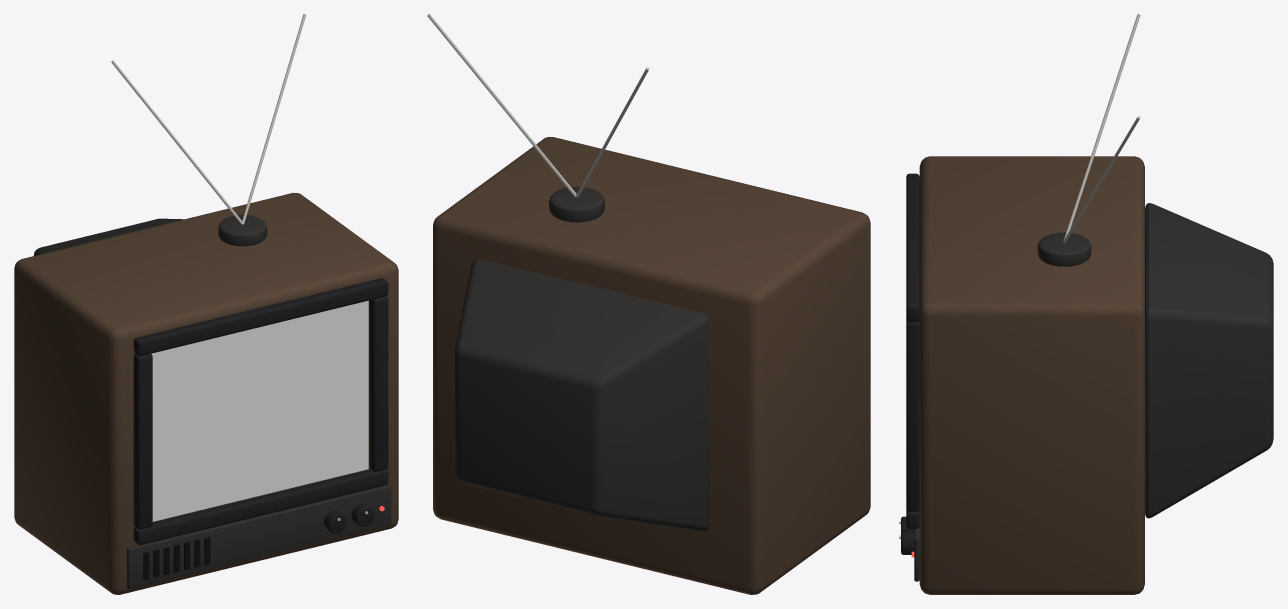
The picture shows the model from 3 angles, left to right: view 1: azimuth 30°, elevation 25°; view 2: azimuth 150°, elevation 25°; view 3: azimuth 270°, elevation 25°; orthographic projection. The views are drawn at different scales.
Parts seen in each view (by area): view 1: TvBody, Screen, TvPanel, TvFrameTop, TvFrameBottom, TvFrameLeft, TvFrameRight, TvAntennaBase, TvBack, TvAntennaRod1, TvAntennaRod0; view 2: TvBody, TvBack, TvAntennaBase, TvAntennaRod1; view 3: TvBody, TvBack, TvFrameRight, TvFrameTop, TvAntennaBase, TvAntennaRod0, TvAntennaRod1.
Part boxes in pixels (<box>): TvBody: <box>14,192,398,594</box>; Screen: <box>151,300,368,521</box>; TvPanel: <box>127,484,391,588</box>; TvFrameTop: <box>133,278,388,356</box>; TvFrameBottom: <box>133,469,388,544</box>; TvFrameLeft: <box>133,354,152,529</box>; TvFrameRight: <box>369,296,388,471</box>; TvAntennaBase: <box>218,215,267,246</box>; TvBack: <box>33,218,183,255</box>; TvAntennaRod1: <box>242,14,305,224</box>; TvAntennaRod0: <box>111,60,243,224</box>; TvBody: <box>433,137,870,594</box>; TvBack: <box>454,258,709,531</box>; TvAntennaBase: <box>549,186,604,222</box>; TvAntennaRod1: <box>427,14,576,197</box>; TvBody: <box>919,156,1144,594</box>; TvBack: <box>1145,203,1273,518</box>; TvFrameRight: <box>906,320,919,511</box>; TvFrameTop: <box>906,173,919,322</box>; TvAntennaBase: <box>1037,232,1091,266</box>; TvAntennaRod0: <box>1063,14,1140,240</box>; TvAntennaRod1: <box>1063,116,1140,242</box>.
Size of the model in its own units: 0.6893 by 0.9946 by 0.698.
